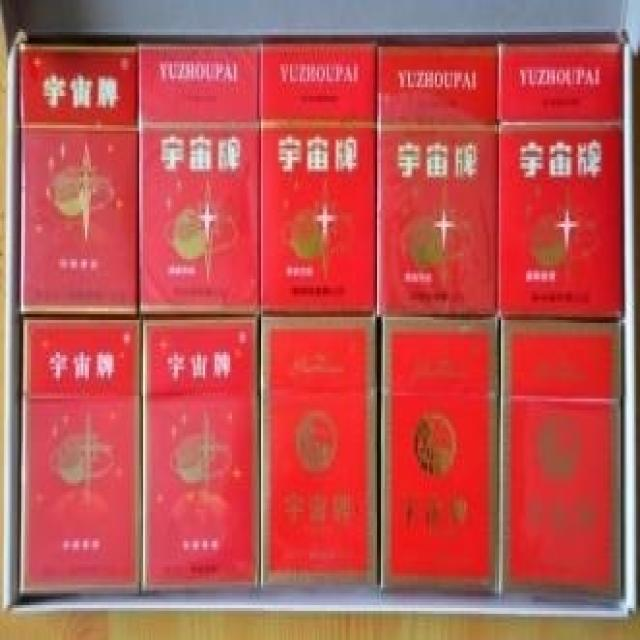box: (497, 317, 625, 602), (497, 44, 625, 317), (19, 317, 141, 596), (379, 317, 499, 596), (137, 44, 259, 317), (141, 317, 259, 593), (377, 47, 497, 317), (261, 314, 379, 588), (19, 47, 137, 317), (261, 44, 377, 314)
